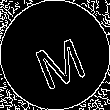M_N: (24, 23, 86, 87)
